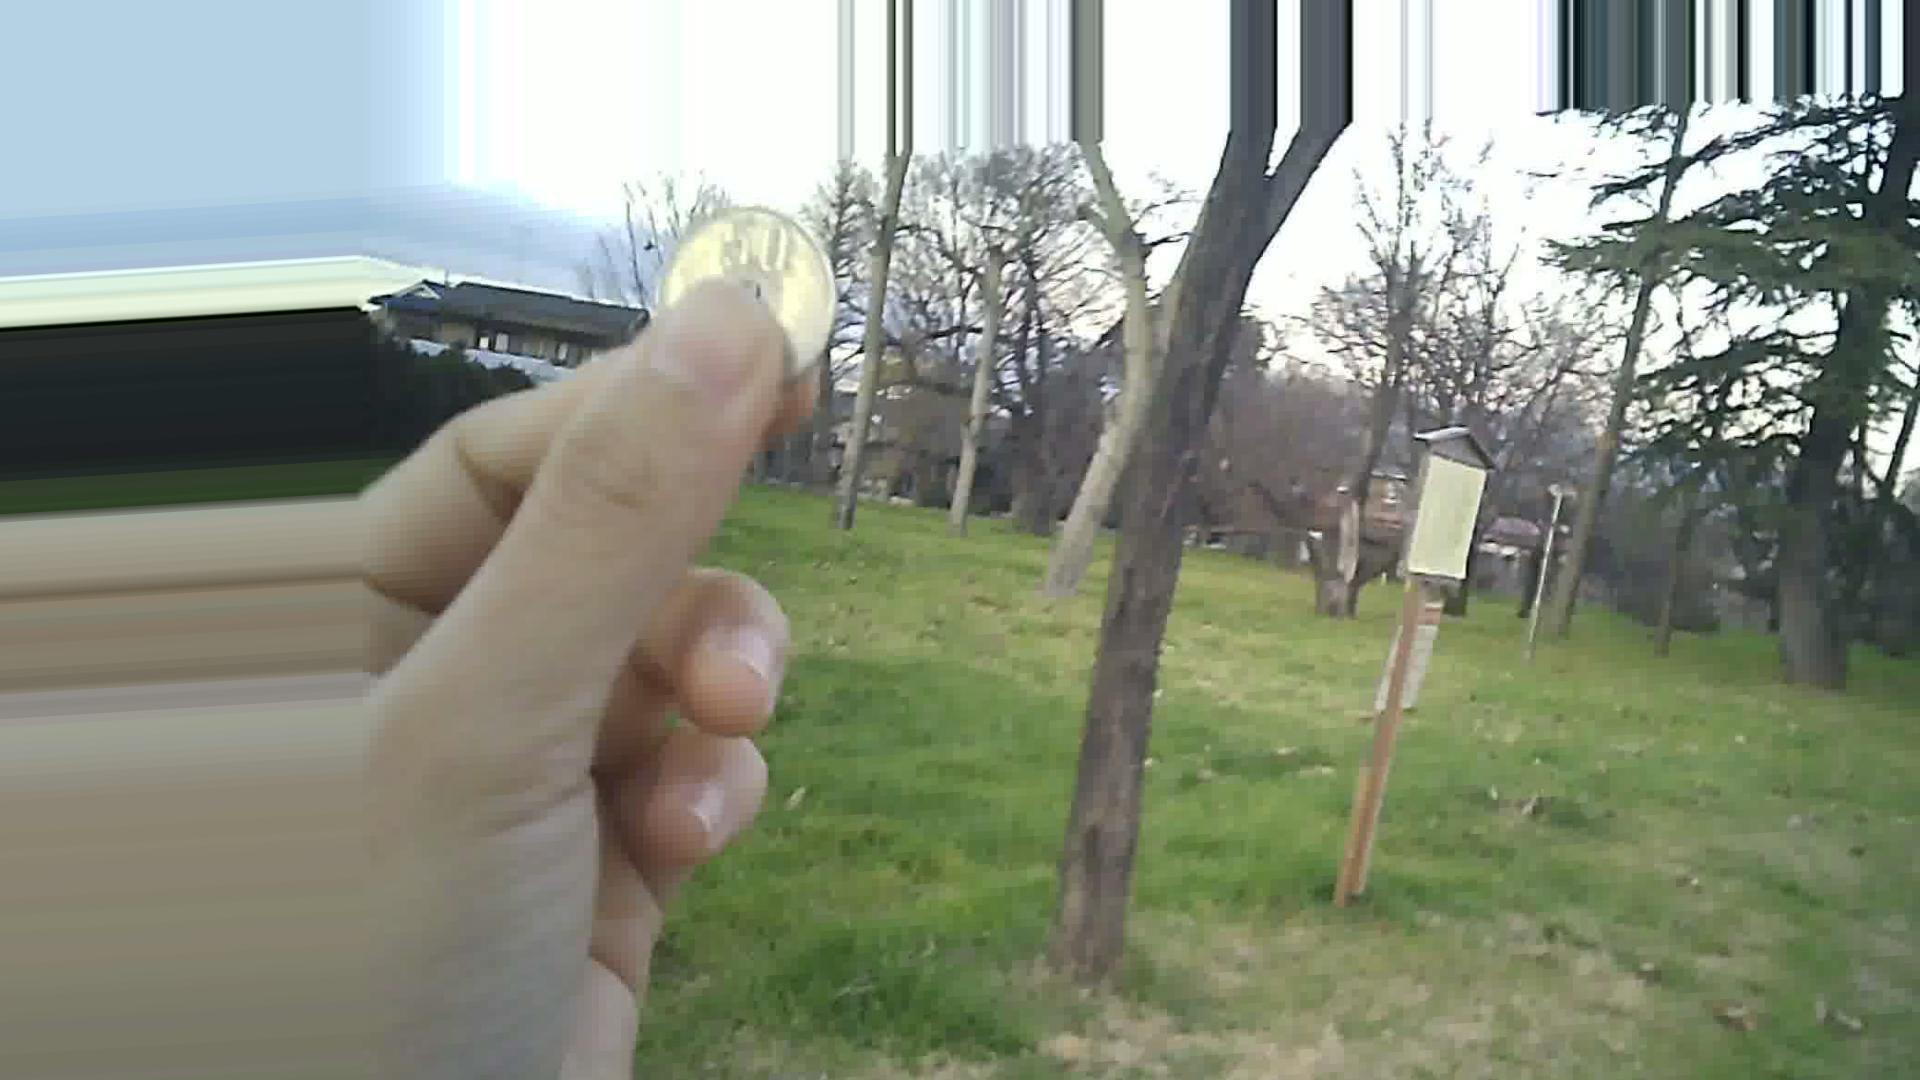50 Yen: (644, 203, 832, 378)
